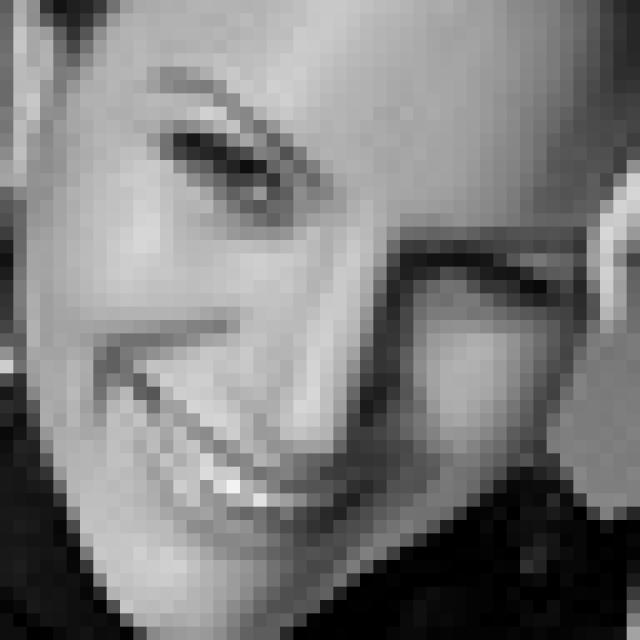happy: (95, 63, 585, 575)
